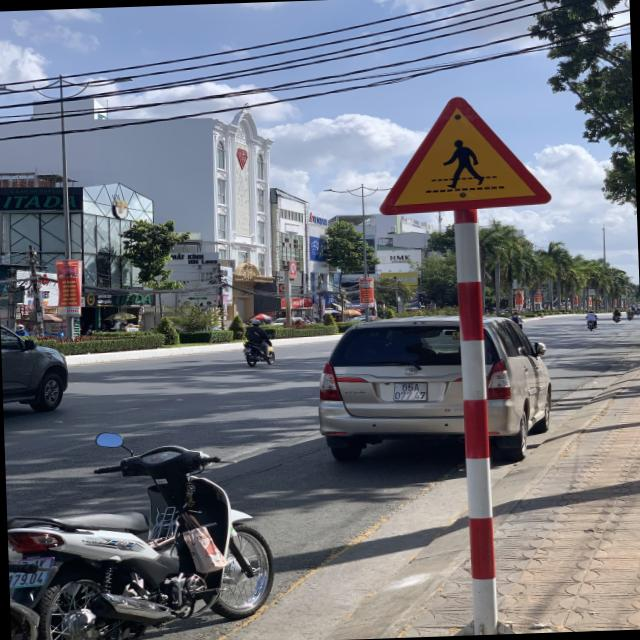Duong_Nguoi_Di_Bo_Sang_Ngang: (374, 92, 552, 214)
